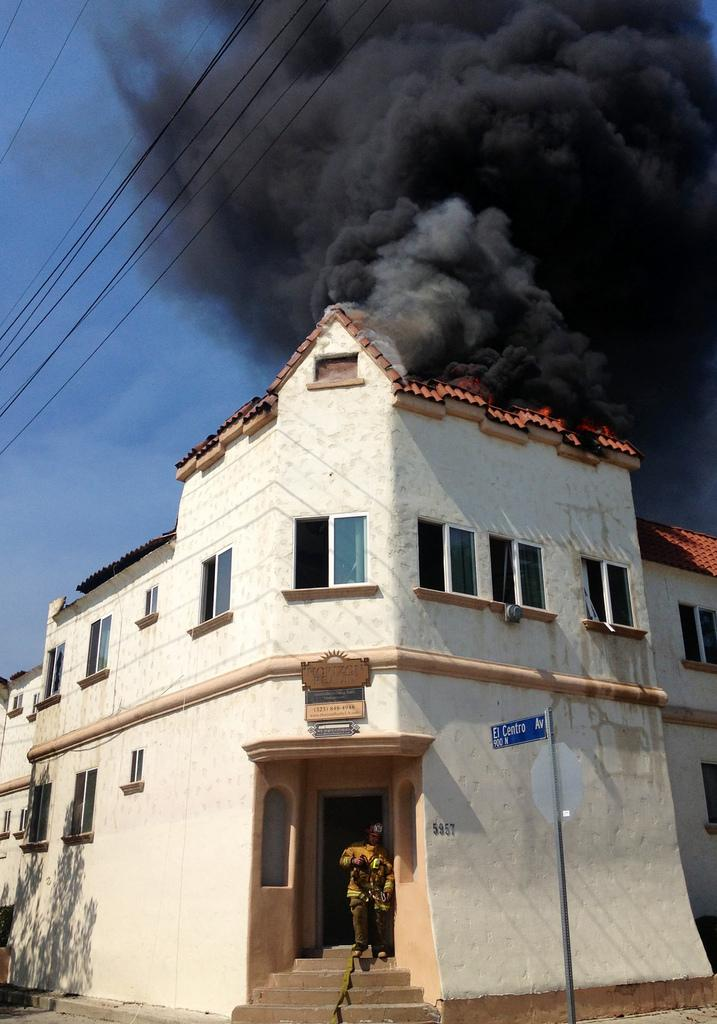smoke: (160, 0, 716, 522), (94, 0, 247, 135)
